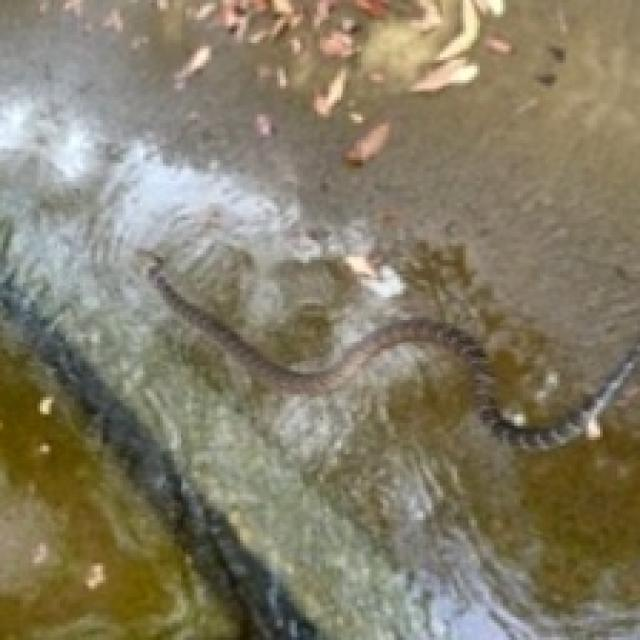king cobra: (146, 251, 637, 446)
